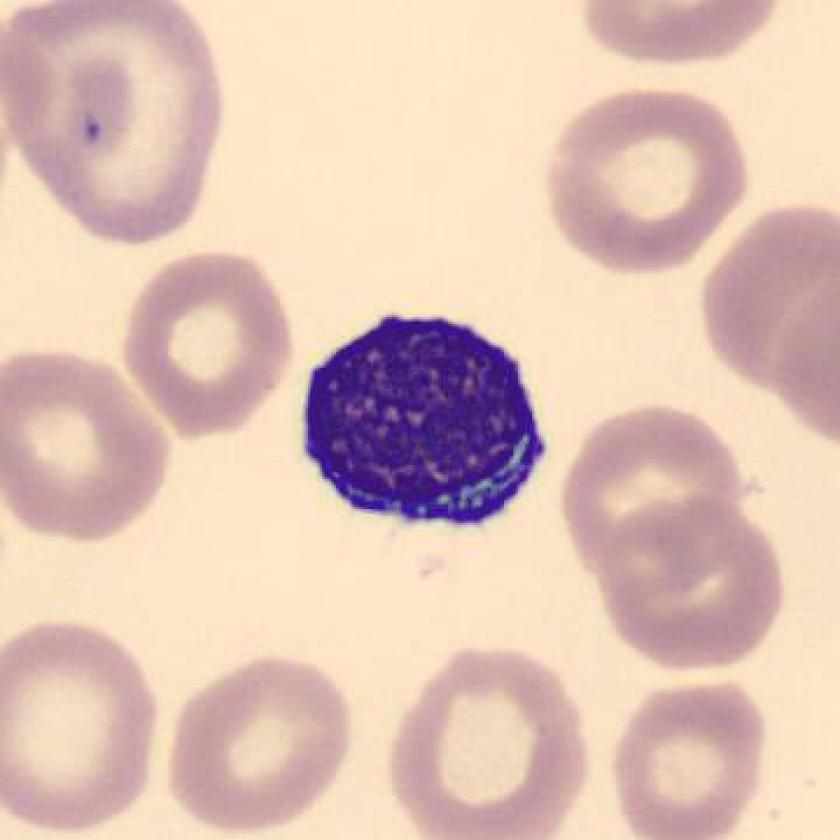lymphocyte: (281, 299, 566, 545)
